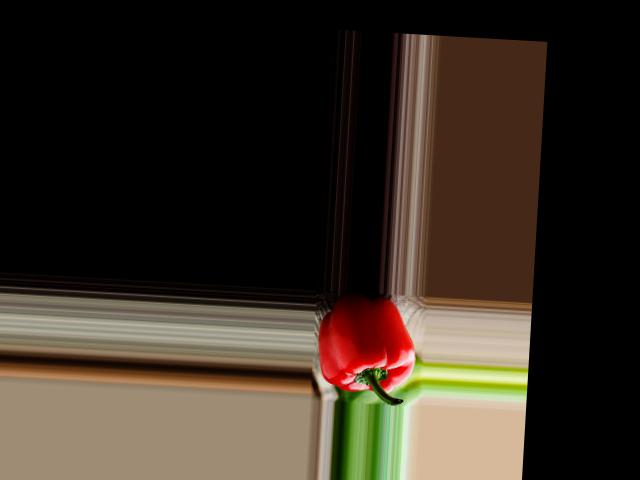bell_pepper: (317, 289, 421, 404)
